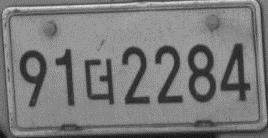1: (51, 47, 82, 107)
2: (154, 44, 185, 104), (121, 45, 150, 105)
4: (219, 42, 251, 103)
8: (184, 43, 218, 104)
9: (17, 49, 48, 109)
더: (84, 57, 116, 106)
